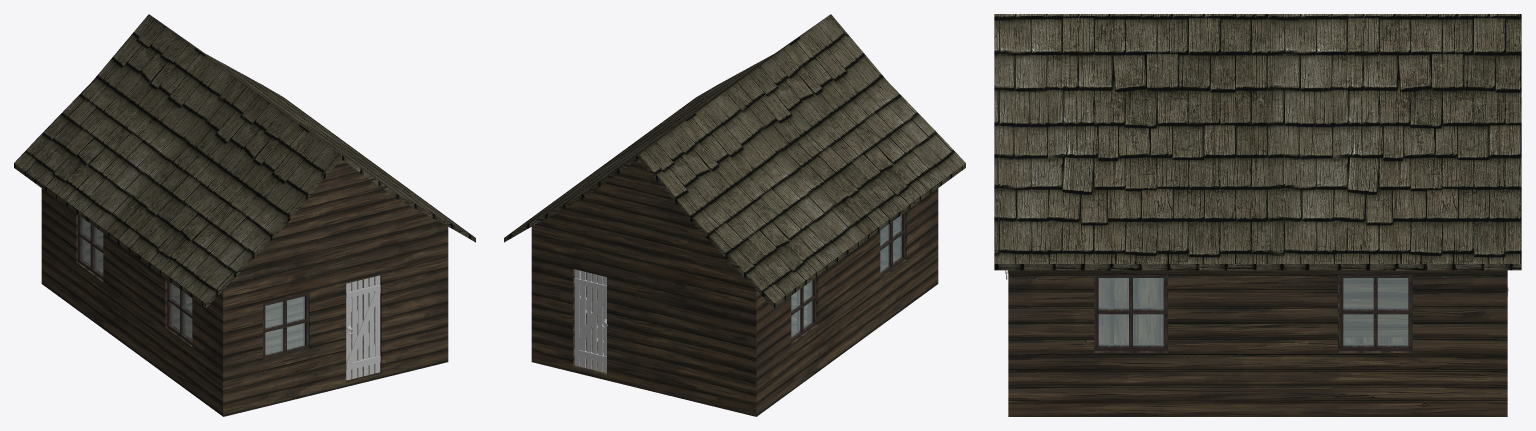
3 renders of one model, left to right at view 1: azimuth 30°, elevation 25°; view 2: azimuth 150°, elevation 25°; view 3: azimuth 270°, elevation 25°, orthographic. The views are drawn at different scales.
Parts seen in each view (by area): view 1: MedievalHouse, MedievalHouse.002, MedievalHouse.004, MedievalHouse.003; view 2: MedievalHouse, MedievalHouse.002, MedievalHouse.001, MedievalHouse.004, MedievalHouse.003; view 3: MedievalHouse.002, MedievalHouse, MedievalHouse.004, MedievalHouse.003.
Boxes of the visible parts, x1,y1,x2,y2 form: MedievalHouse: (41,159,448,416); MedievalHouse.002: (14,14,475,307); MedievalHouse.004: (82,218,304,354); MedievalHouse.003: (78,215,308,359); MedievalHouse: (531,159,938,416); MedievalHouse.002: (504,14,965,307); MedievalHouse.001: (574,269,607,372); MedievalHouse.004: (791,215,901,337); MedievalHouse.003: (791,212,905,342); MedievalHouse.002: (994,14,1521,270); MedievalHouse: (1005,270,1507,416); MedievalHouse.004: (1099,278,1407,345); MedievalHouse.003: (1094,275,1412,351).
Size of the model in its own units: 1320 by 1116 by 1628.
